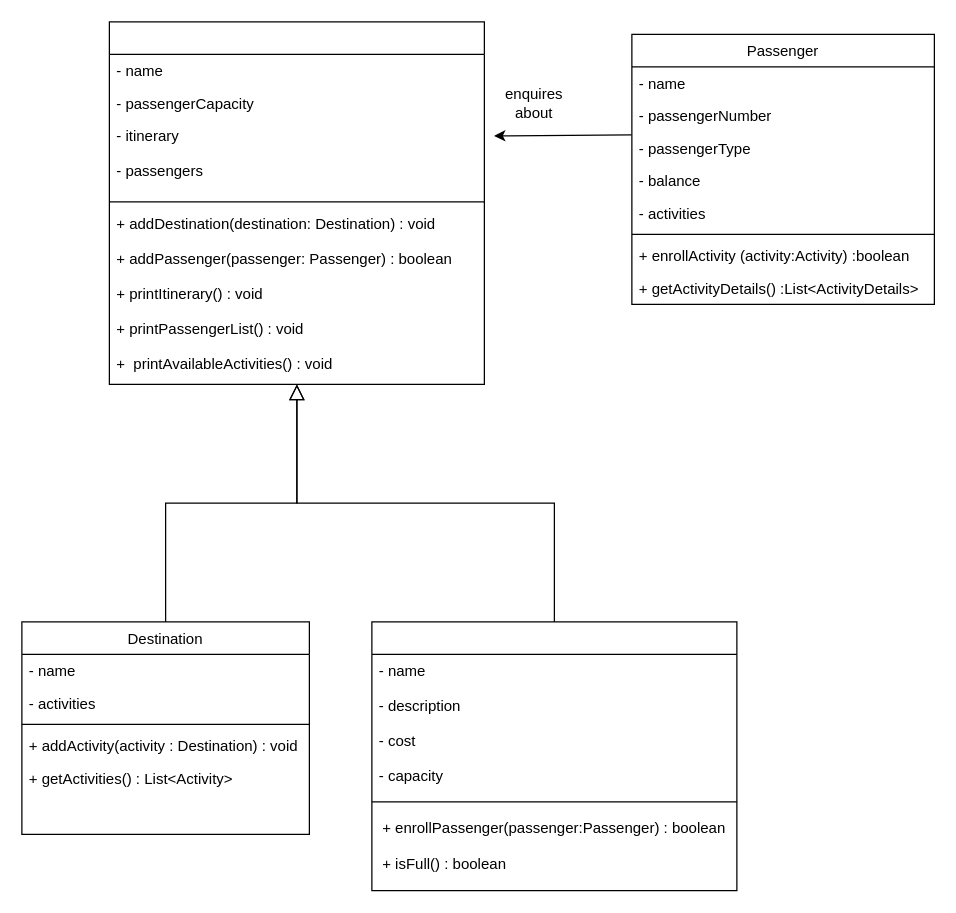
The diagram is 956 pixels wide and 913 high, and some of its shapes have lost their labels. The box of each missing label's shape, as (x1, y1, x2, y2) in pixels:
Activity: (371, 621, 737, 891)
Travel Package: (108, 21, 484, 384)
